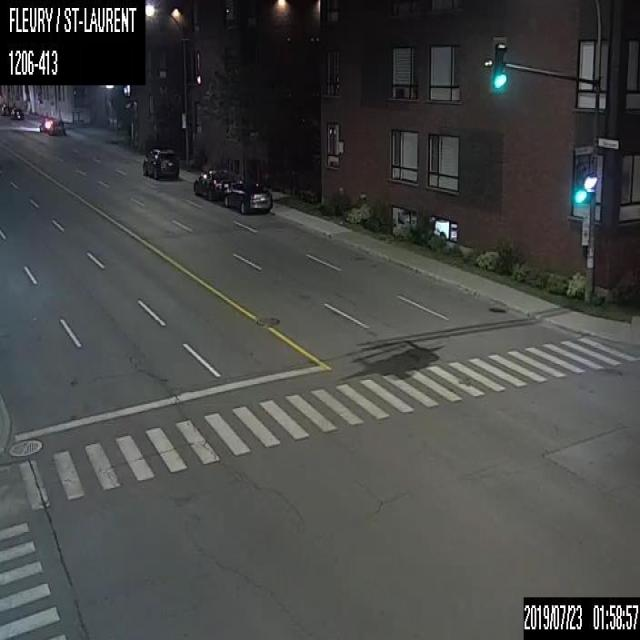vehicle: (222, 182, 273, 214), (193, 169, 238, 200), (142, 145, 179, 179), (49, 118, 66, 134), (38, 116, 53, 131), (10, 106, 23, 118), (0, 102, 10, 115)
